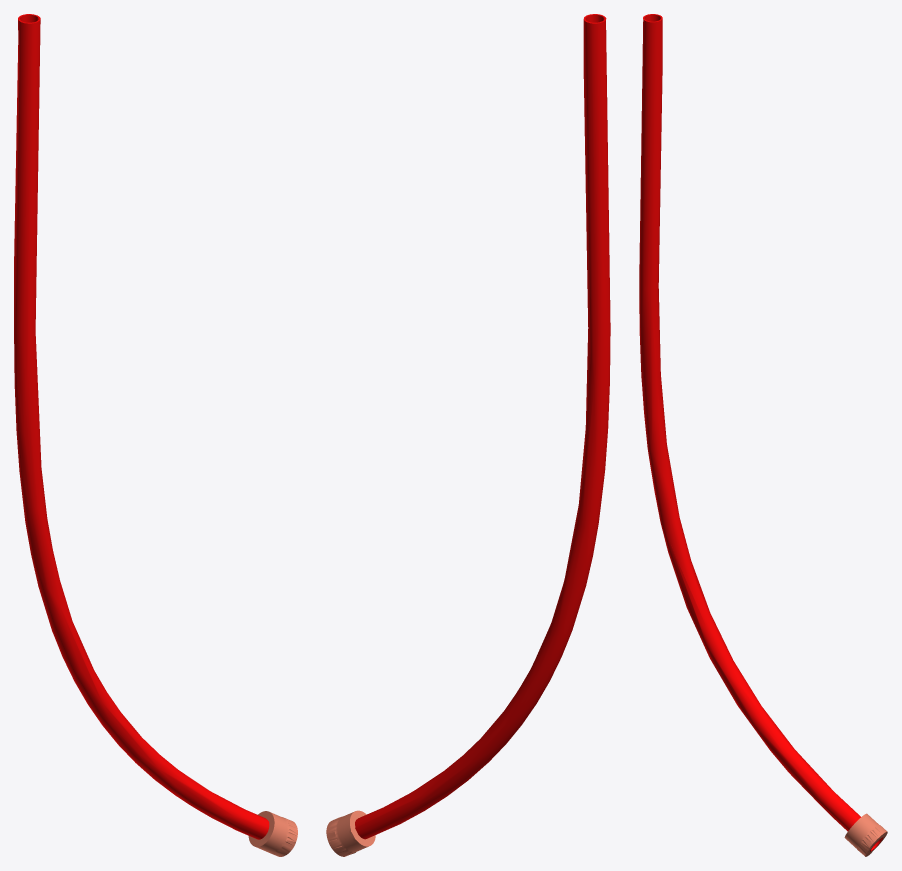
Rendered from Red Pip.fbx.
3 views of the same model, side by side, from view 1: azimuth 30°, elevation 25°; view 2: azimuth 150°, elevation 25°; view 3: azimuth 330°, elevation 25° (orthographic). The views are drawn at different scales.
Parts seen in each view (by area): view 1: Red pip; view 2: Red pip; view 3: Red pip.
Boxes of the visible parts, box(x1,y1,x2,y2) form: Red pip: box(14, 14, 297, 856); Red pip: box(326, 14, 610, 856); Red pip: box(639, 14, 887, 856).
Bounding box in the file's own units: 13.38 × 41.13 × 1.62.
1 material, 1 textured.
